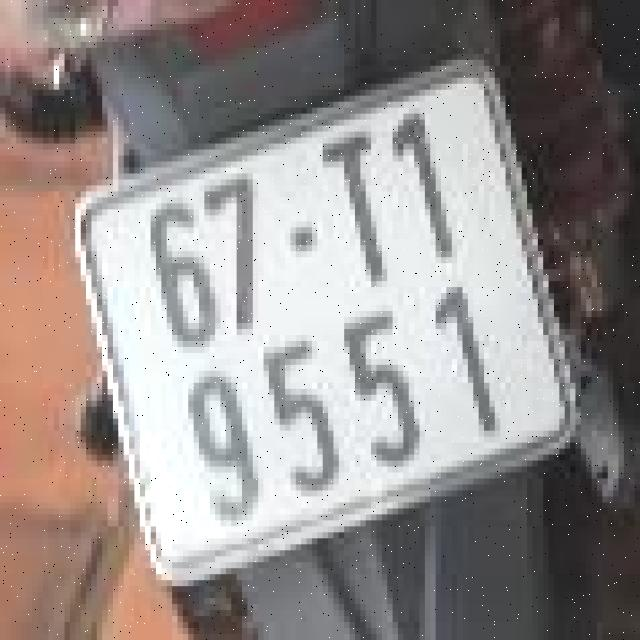1: (418, 268, 530, 467), (374, 85, 468, 279)
5: (241, 323, 366, 524), (322, 288, 441, 494)
6: (128, 181, 228, 368)
7: (197, 159, 293, 352)
9: (166, 359, 291, 549)
T: (302, 118, 421, 305)
